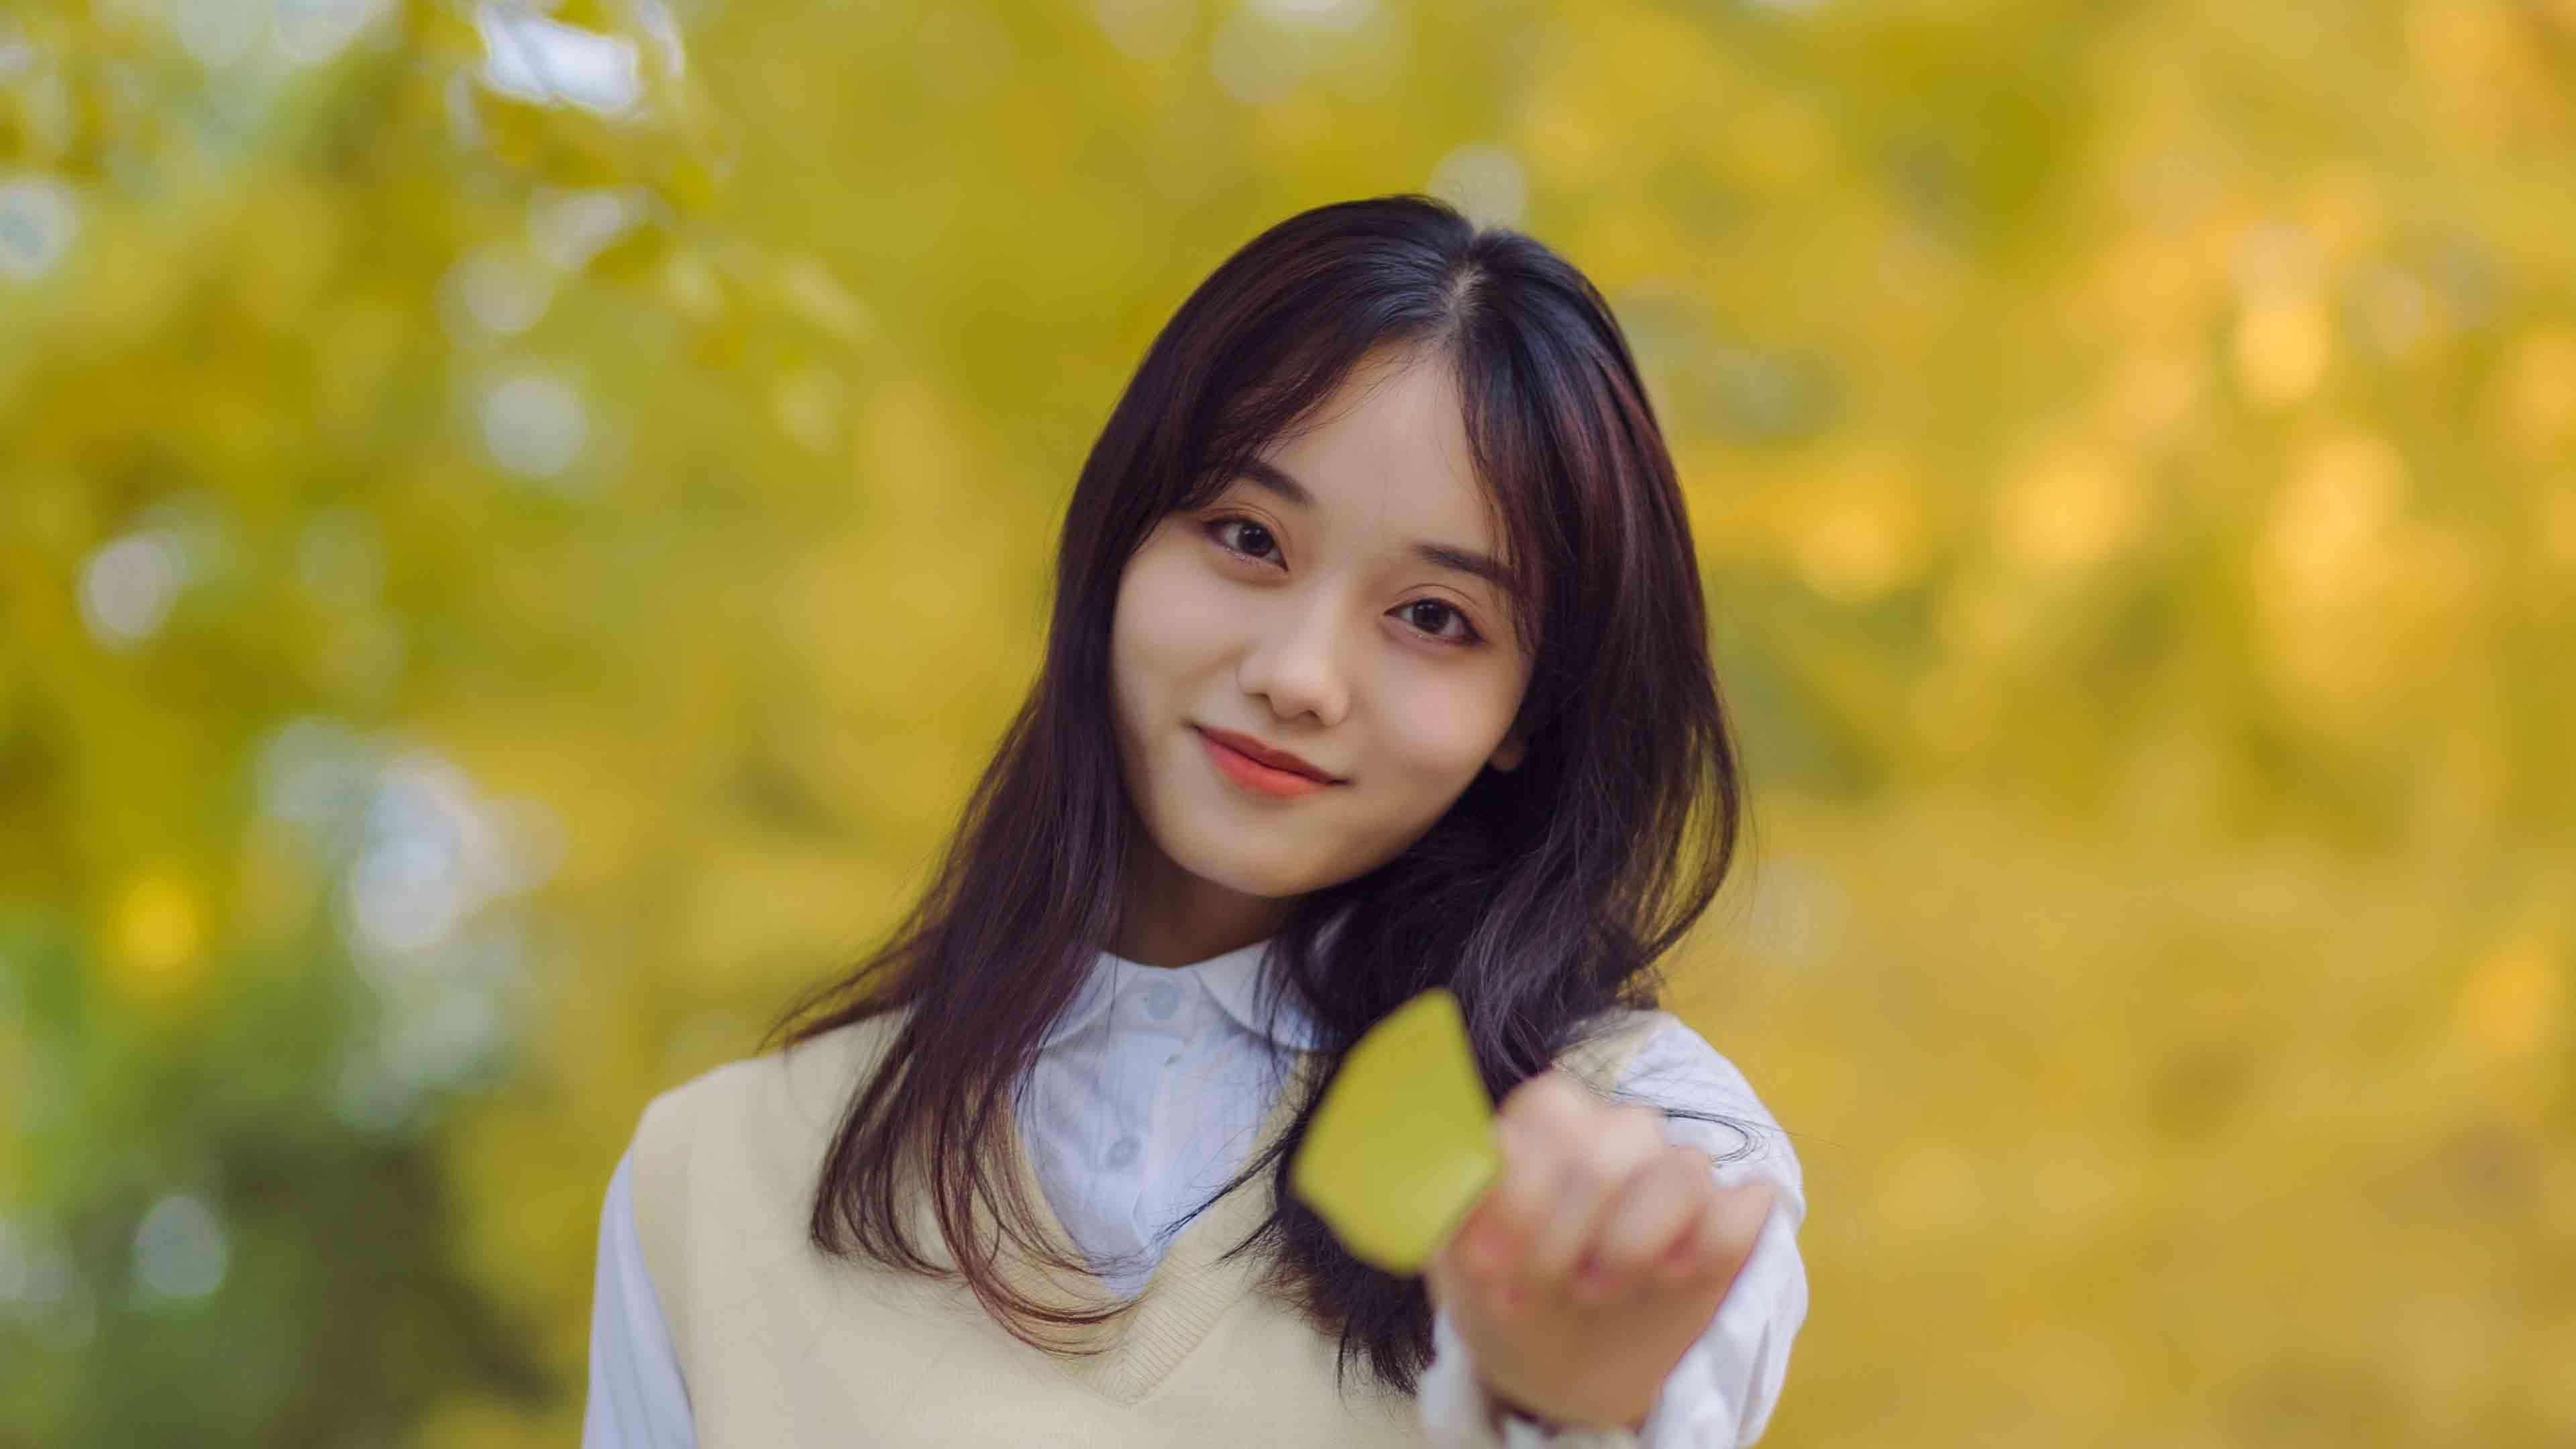person: (892, 258, 1876, 1423)
